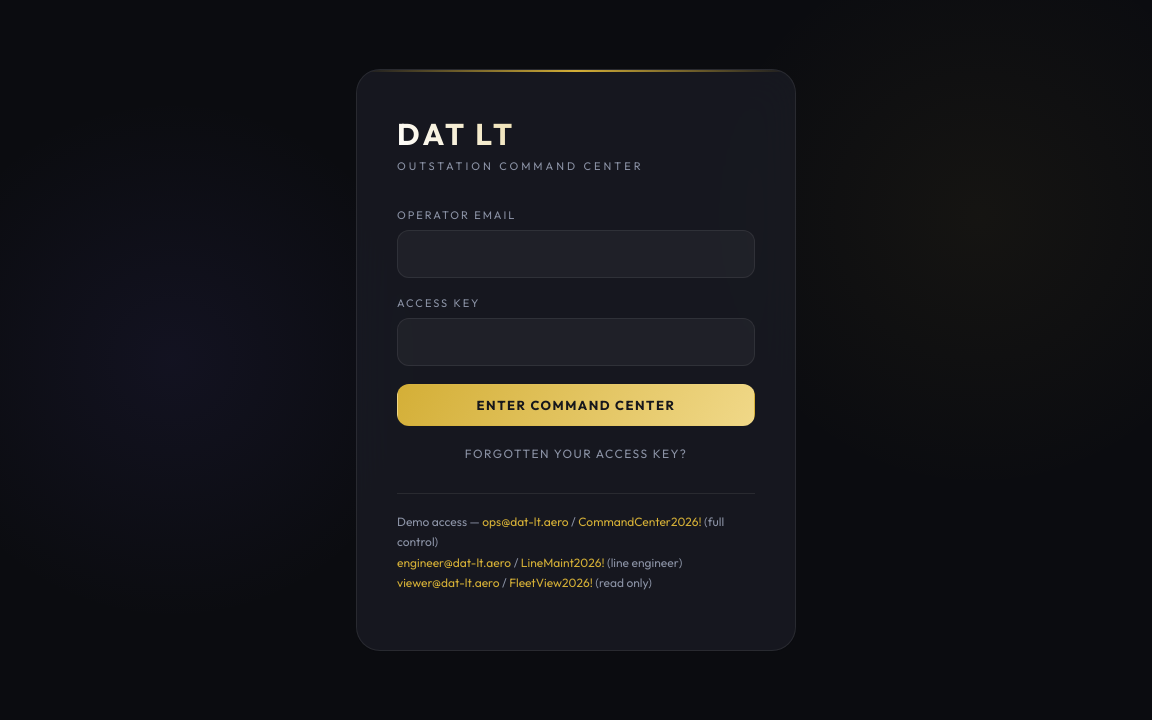
Test: Login page › signing in › says plainly when the account has been deactivated
The image size is (1152, 720).
Expected: the element with test id "auth-ready" is shown, [356, 69, 796, 651]
Type "gone@test.aero" into the field labelled "Operator Email" at (576, 254), box [397, 230, 755, 278]
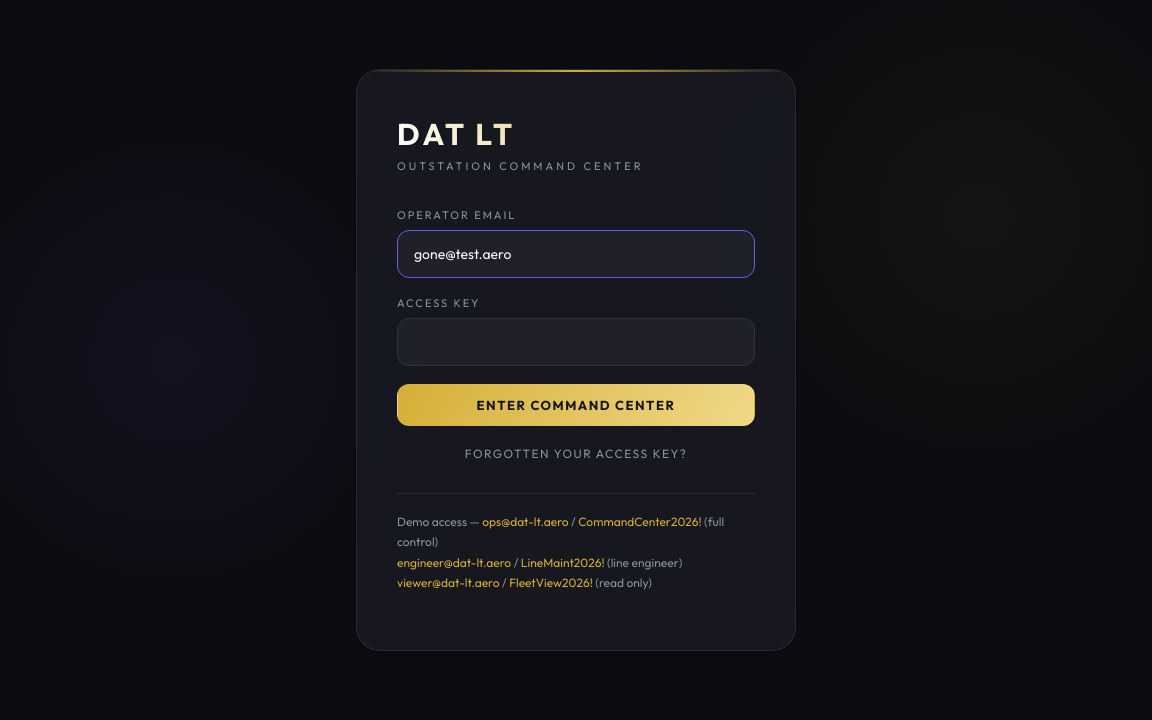
Type "CommandCenter2026!" into the password field labelled "Access Key" at (576, 342), box [397, 318, 755, 366]
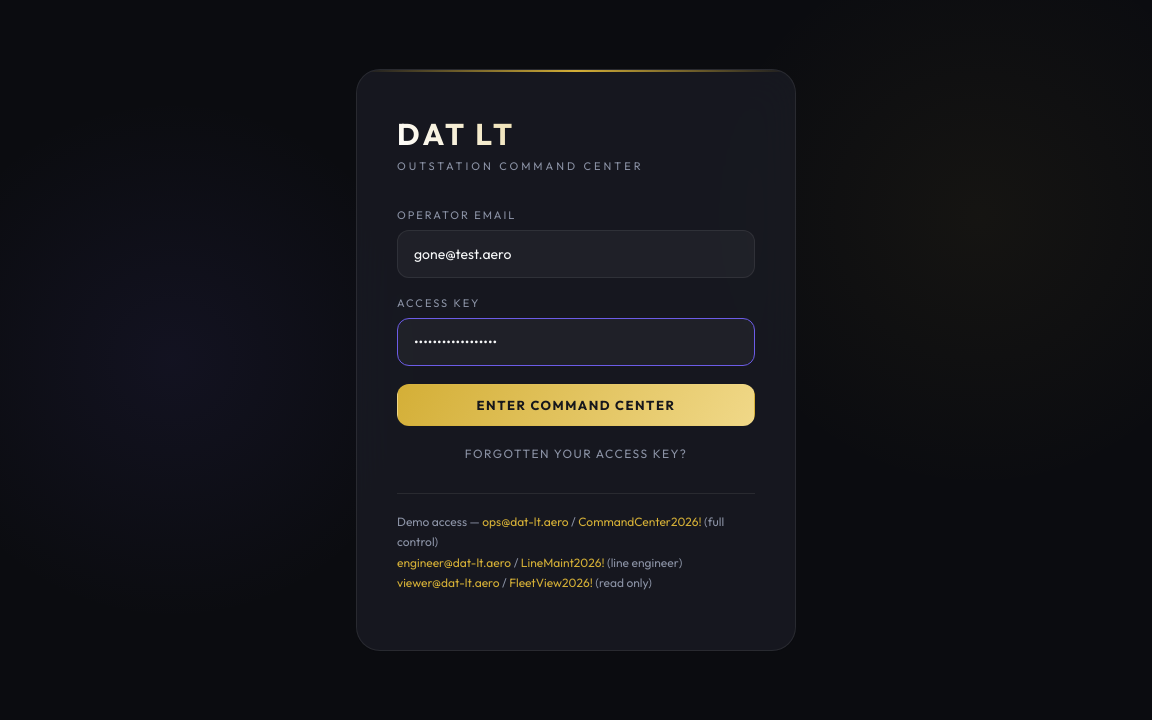
Click the button "Enter Command Center" at (576, 405), box [397, 384, 755, 426]
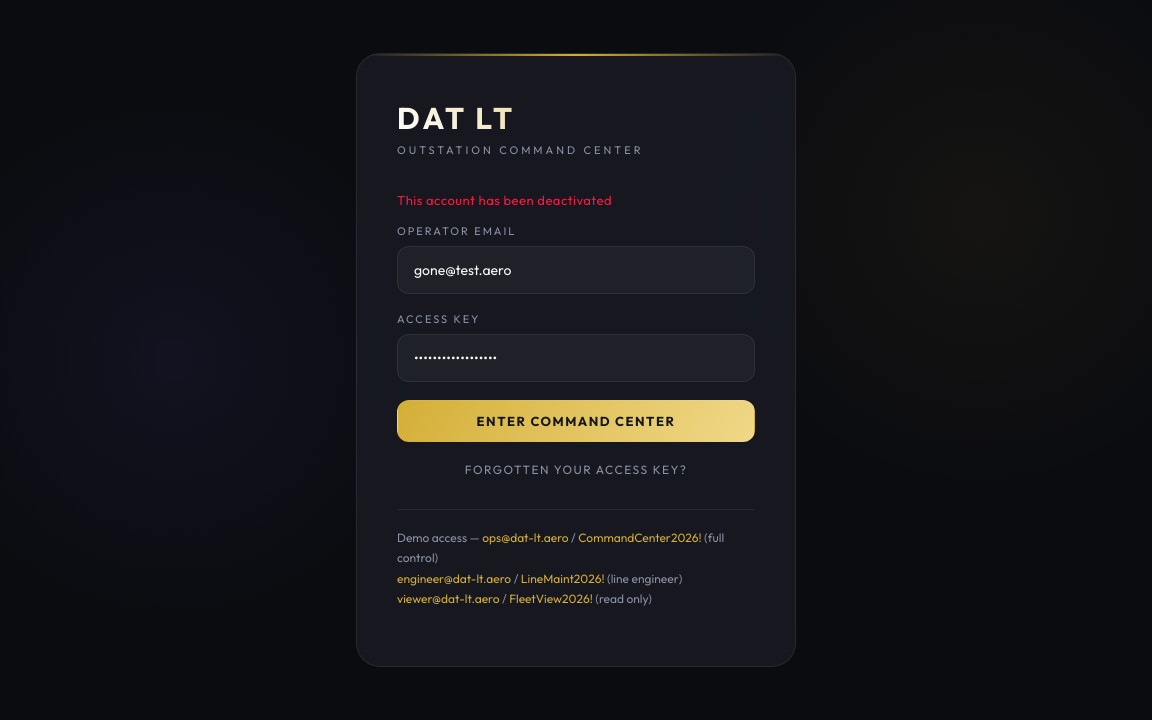
Expected: the text "This account has been deactivated" is shown, [397, 192, 612, 208]
